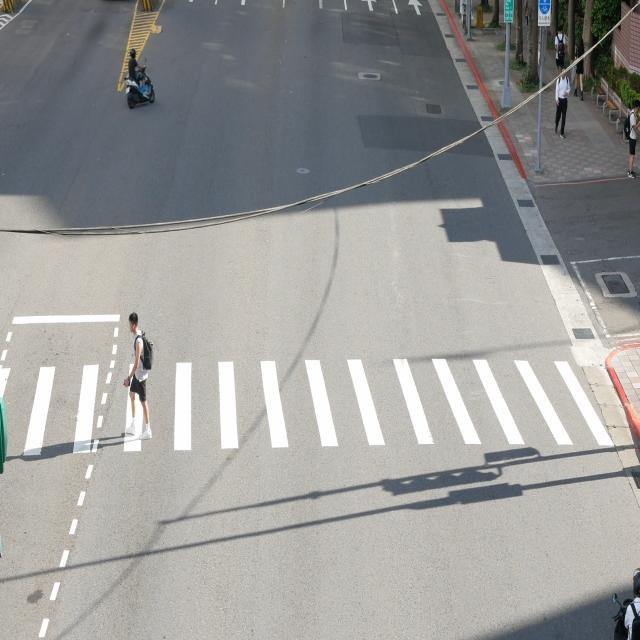pedestrian: (124, 344, 142, 386), (141, 400, 149, 423), (130, 390, 136, 419), (130, 320, 137, 333)
